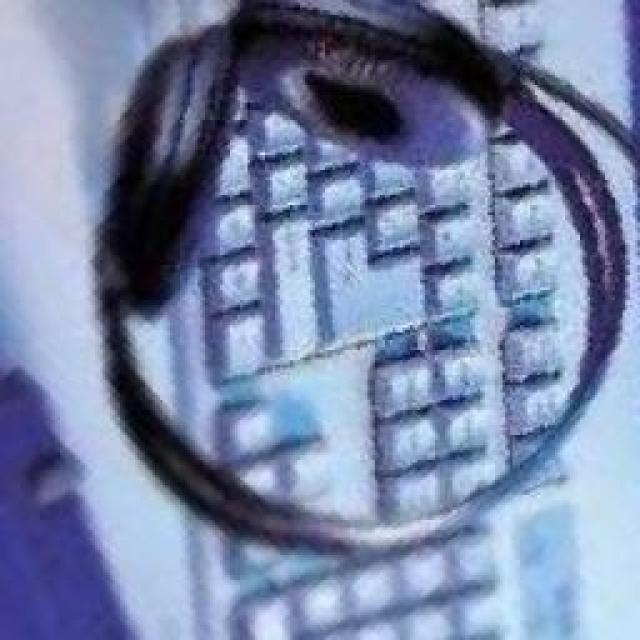kulaklik: (87, 2, 640, 565)
